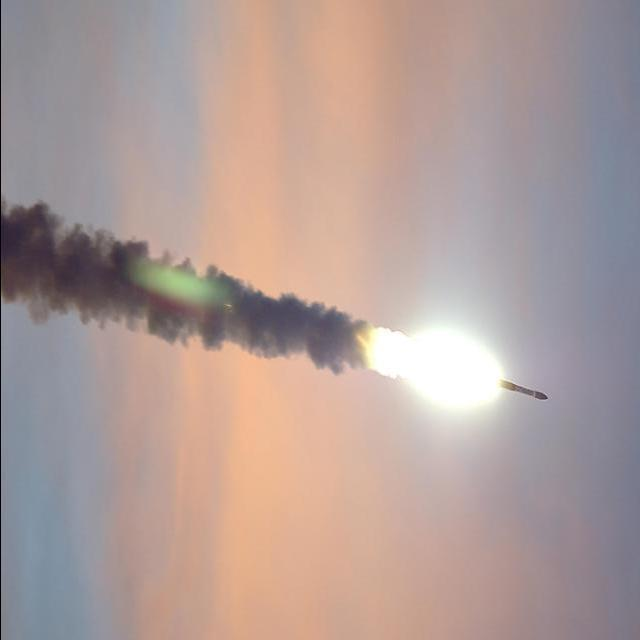missile: (505, 378, 552, 403)
